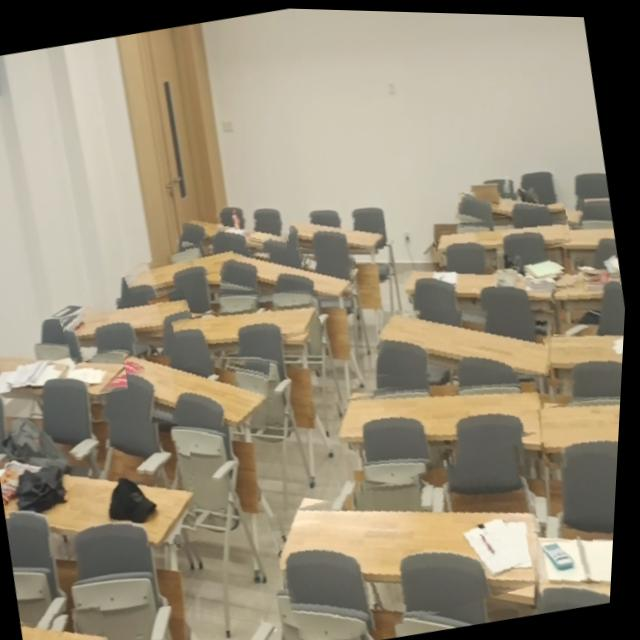Non-empty: (287, 506, 547, 579), (10, 459, 199, 544), (98, 354, 272, 427), (409, 260, 568, 296), (542, 528, 619, 602), (0, 354, 129, 396), (69, 299, 190, 336), (460, 188, 586, 222), (186, 216, 290, 249), (552, 329, 627, 366), (560, 260, 626, 294)
empty: (382, 308, 557, 372), (344, 390, 544, 435), (224, 250, 356, 294), (181, 306, 320, 342), (133, 248, 234, 289), (439, 221, 571, 248), (547, 403, 624, 442), (292, 217, 387, 247), (28, 624, 114, 640)
